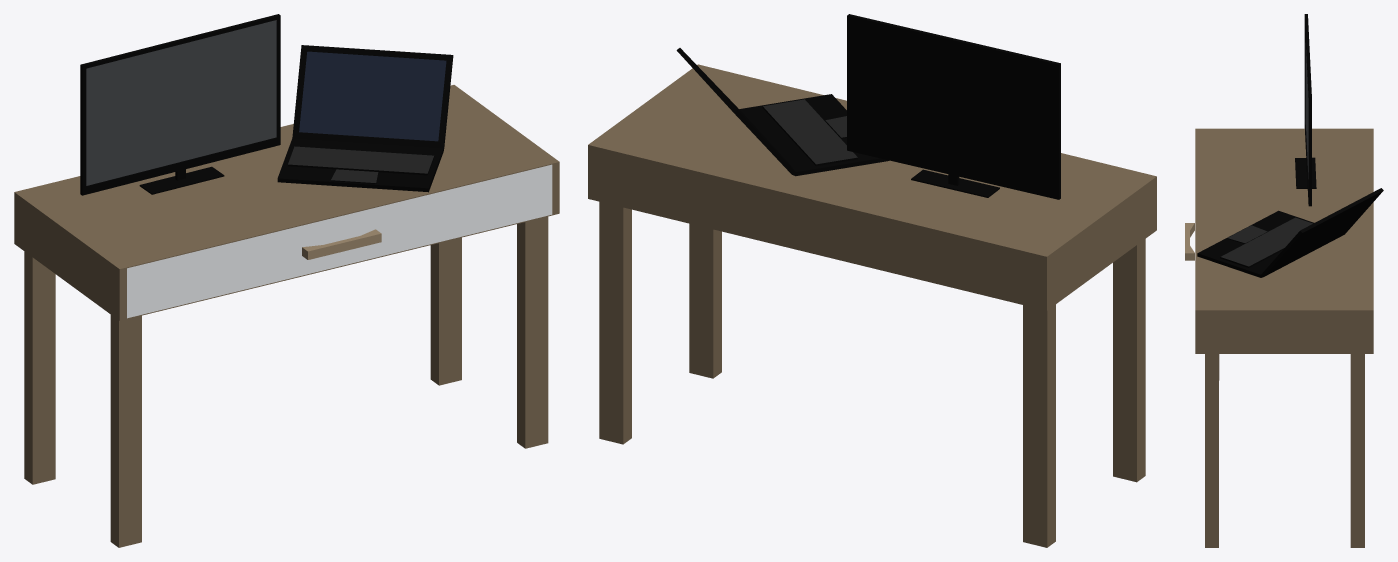
The model's file is Accesories_Office_C.glb.
3 views of the same model, side by side, from view 1: azimuth 30°, elevation 25°; view 2: azimuth 150°, elevation 25°; view 3: azimuth 270°, elevation 25° (orthographic). The views are drawn at different scales.
Visible parts, largest first — view 1: Accesories_Office_C; view 2: Accesories_Office_C; view 3: Accesories_Office_C.
Boxes of the visible parts, <box> form: Accesories_Office_C: <box>14,14,559,547</box>; Accesories_Office_C: <box>588,14,1156,547</box>; Accesories_Office_C: <box>1185,14,1383,547</box>.
Bounding box in the file's own units: 1.2 × 1.13 × 0.5548.
1 material, 1 textured.
